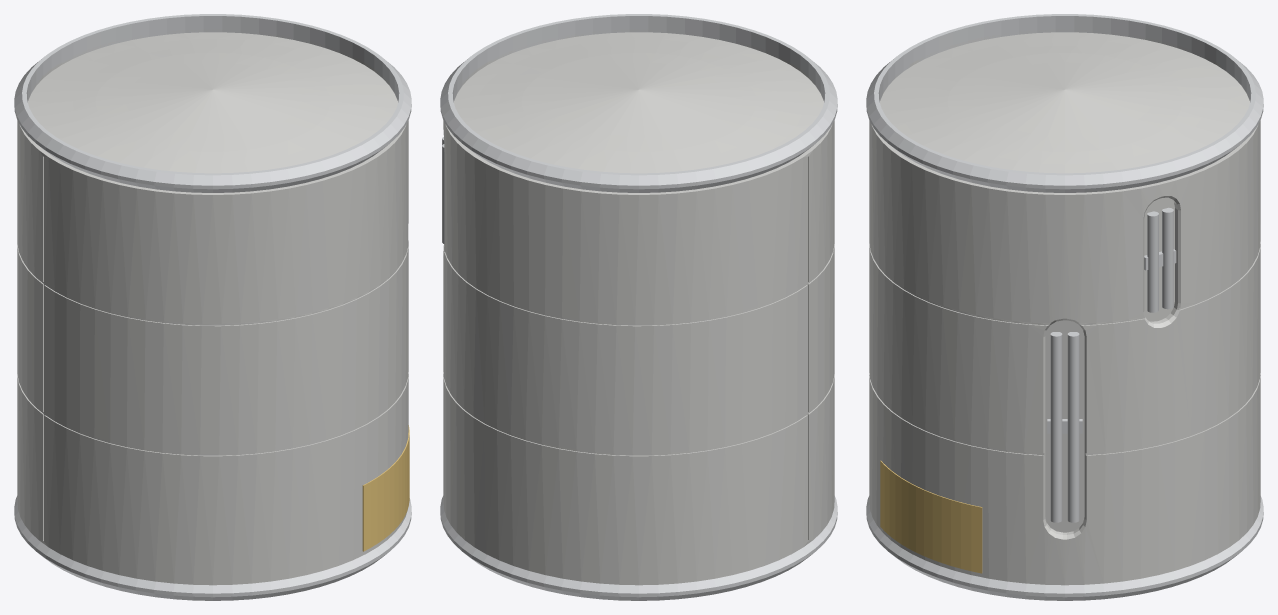
Rendered from ax_tank_01_modern_methalox_m_short.glb.
3 views of the same model, side by side, from view 1: azimuth 30°, elevation 25°; view 2: azimuth 150°, elevation 25°; view 3: azimuth 270°, elevation 25° (orthographic).
Parts seen in each view (by area): view 1: tank_barrel, dome_caps, end_rings, mli_patch; view 2: tank_barrel, dome_caps, end_rings; view 3: tank_barrel, dome_caps, end_rings, raceway_lines, mli_patch.
Boxes of the visible parts, left/top/right/bottom form: tank_barrel: left=17, top=120, right=408, bottom=585; dome_caps: left=28, top=29, right=397, bottom=173; end_rings: left=14, top=14, right=411, bottom=600; mli_patch: left=362, top=425, right=409, bottom=551; tank_barrel: left=443, top=120, right=834, bottom=585; dome_caps: left=454, top=29, right=823, bottom=173; end_rings: left=440, top=14, right=837, bottom=600; tank_barrel: left=869, top=120, right=1260, bottom=585; dome_caps: left=880, top=29, right=1249, bottom=173; end_rings: left=866, top=14, right=1263, bottom=600; raceway_lines: left=1047, top=207, right=1176, bottom=522; mli_patch: left=880, top=460, right=982, bottom=573.
Bounding box in the file's own units: 2.54 × 3.07 × 2.54.
